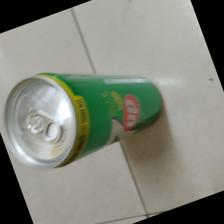7up: (2, 72, 164, 170)
